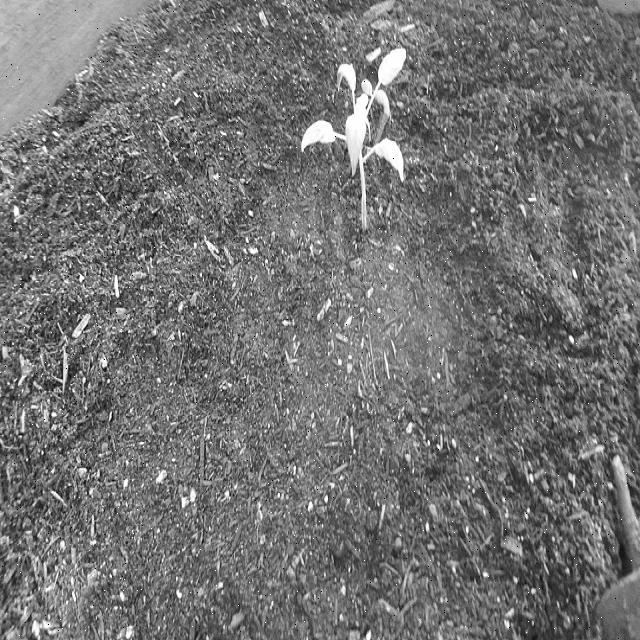Healthy: (301, 44, 408, 240)
